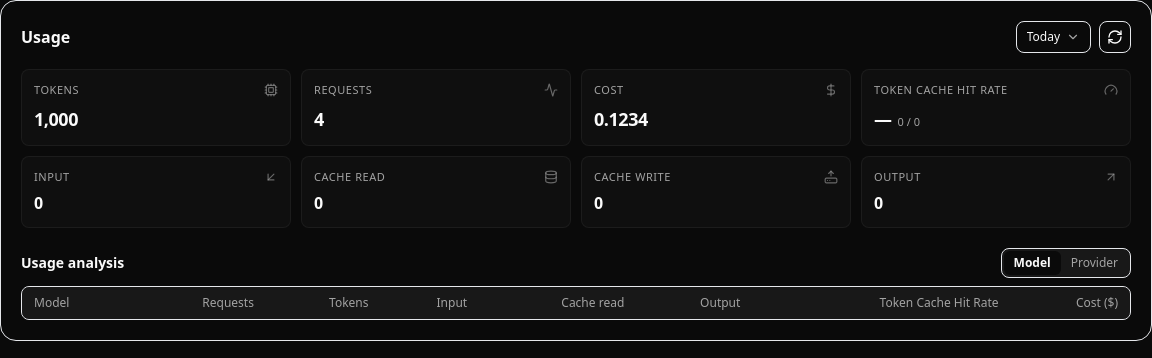
Scenario: UsageStatsPanel › 默认今日并在切范围时按 range 重新取数，卡片展示 Tokens/请求数/花费
expect the element with test id "ai-gateway-usage-card-tokens" shows "1,000": met, box x1=34 y1=106 x2=78 y2=130
expect the element with test id "ai-gateway-usage-card-requests" shows "4": met, box x1=314 y1=106 x2=324 y2=130
Click the button with test id "ai-gateway-usage-range-trigger". click: (1053, 37)
box: x1=1016 y1=21 x2=1091 y2=53
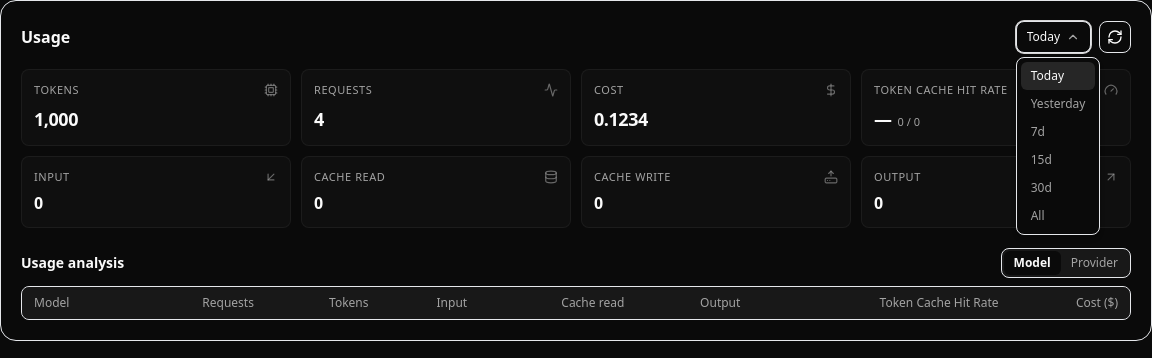
Click the option "7d". click: (1058, 132)
box: x1=1021 y1=118 x2=1096 y2=146
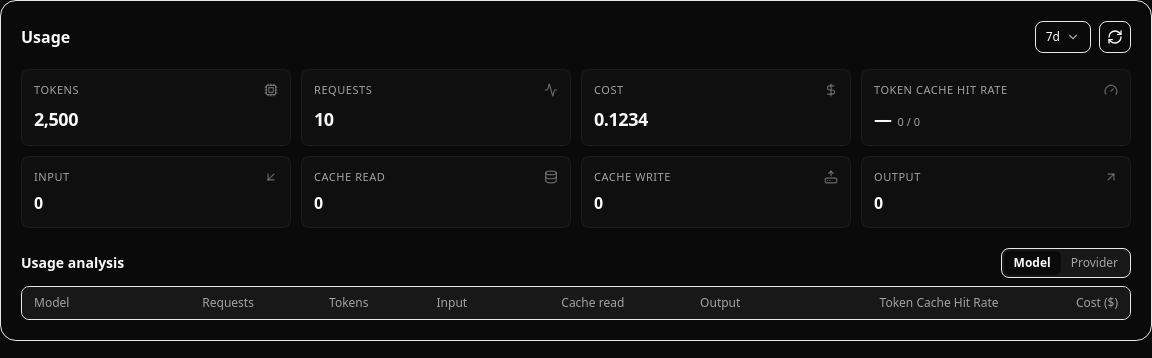
expect the button with test id "ai-gateway-usage-range-trigger" reads "7d": met, box x1=1035 y1=21 x2=1091 y2=53
expect the element with test id "ai-gateway-usage-card-requests" shows "10": met, box x1=314 y1=106 x2=334 y2=130
